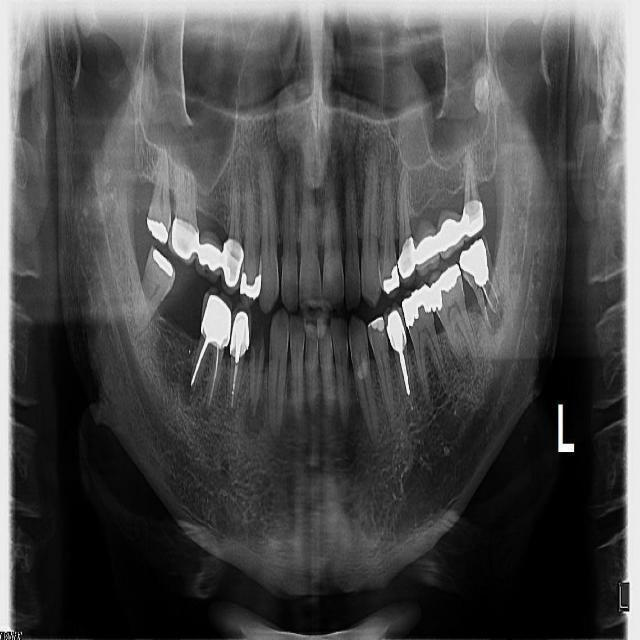Crown: (200, 291, 230, 345), (168, 217, 199, 263), (229, 302, 251, 359), (220, 242, 243, 294), (197, 241, 228, 275), (462, 197, 486, 239), (385, 304, 406, 350), (437, 222, 466, 255), (416, 237, 442, 269), (398, 242, 418, 278)
Filling: (429, 264, 461, 311), (458, 238, 489, 285), (403, 284, 432, 328), (152, 248, 173, 278), (240, 271, 261, 299), (384, 262, 399, 295), (148, 218, 168, 241)
Missing teeth: (158, 272, 206, 338)
Periapical lesion: (180, 370, 205, 406), (245, 399, 265, 437), (483, 308, 507, 335), (486, 293, 507, 317), (194, 402, 212, 424)
Root Canal Treatment: (191, 341, 209, 387), (209, 346, 219, 407), (399, 352, 410, 396), (482, 282, 496, 313), (231, 359, 239, 407), (487, 281, 498, 304)
Root Piece: (250, 330, 267, 414)
